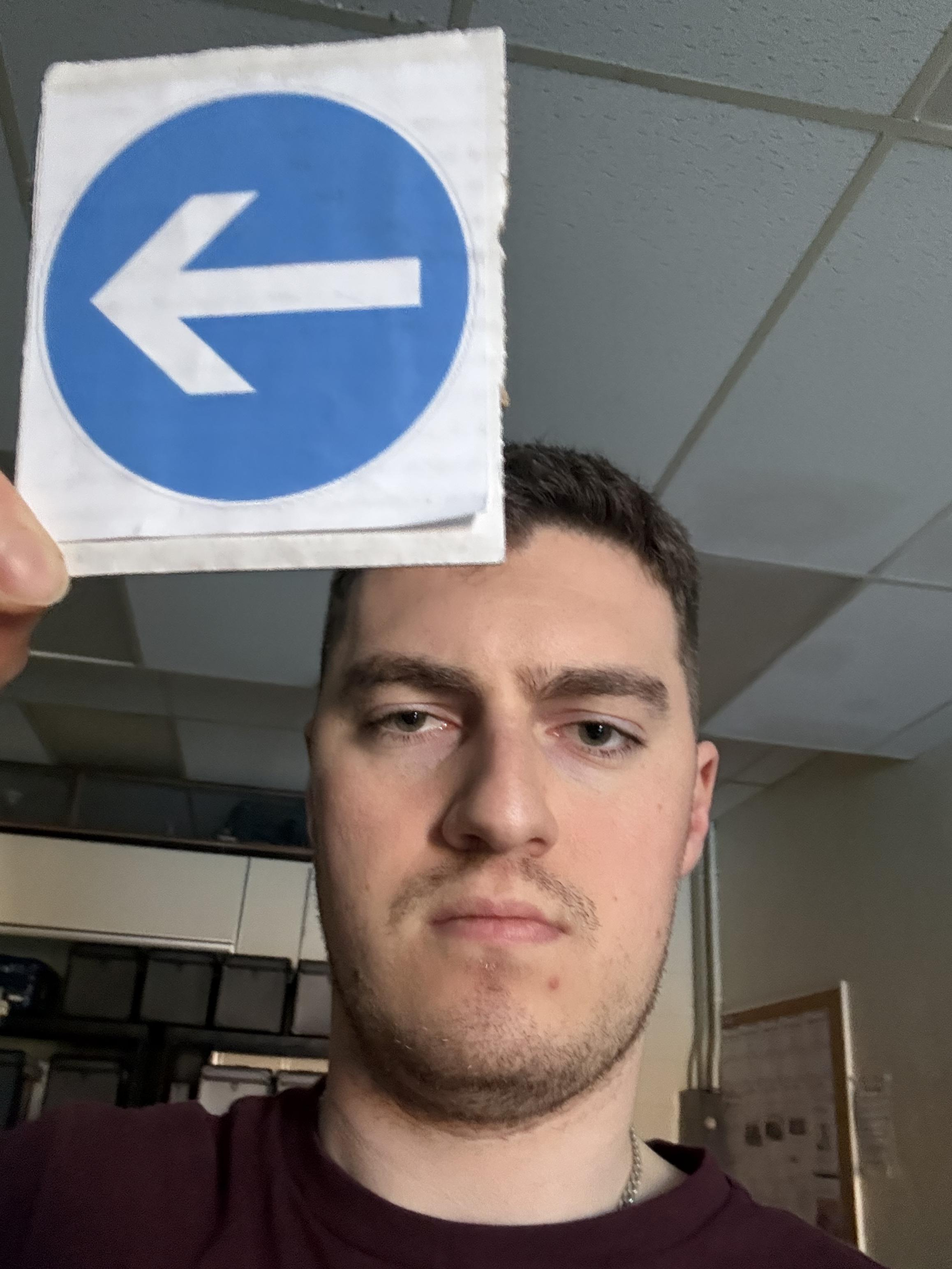Proceed Left: (12, 32, 382, 767)
